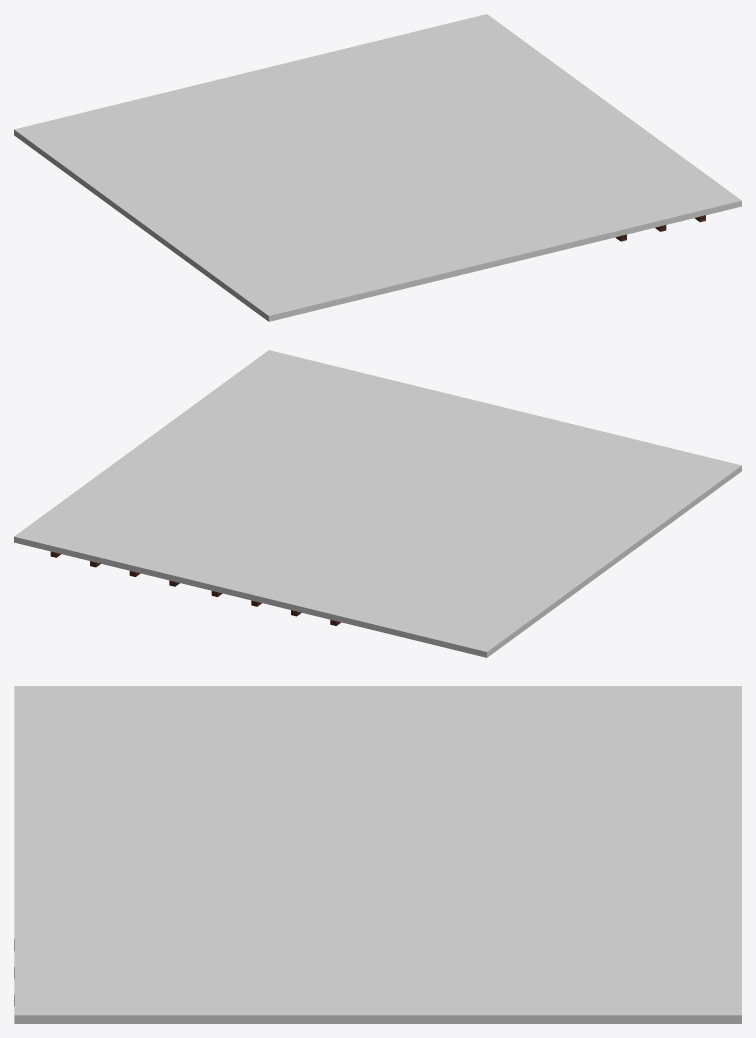
File: Ceiling.fbx
3 renders of one model, top to bottom at view 1: azimuth 30°, elevation 25°; view 2: azimuth 150°, elevation 25°; view 3: azimuth 270°, elevation 25°, orthographic. The views are drawn at different scales.
Parts seen in each view (by area): view 1: ceiling; view 2: ceiling; view 3: ceiling.
Boxes of the visible parts, x1,y1,x2,y2 form: ceiling: [14, 14, 741, 321]; ceiling: [14, 350, 741, 657]; ceiling: [14, 686, 741, 1023].
Size of the model in its own units: 1190 by 27.1 by 1112.
Materials: 2 (1 with a texture image).
